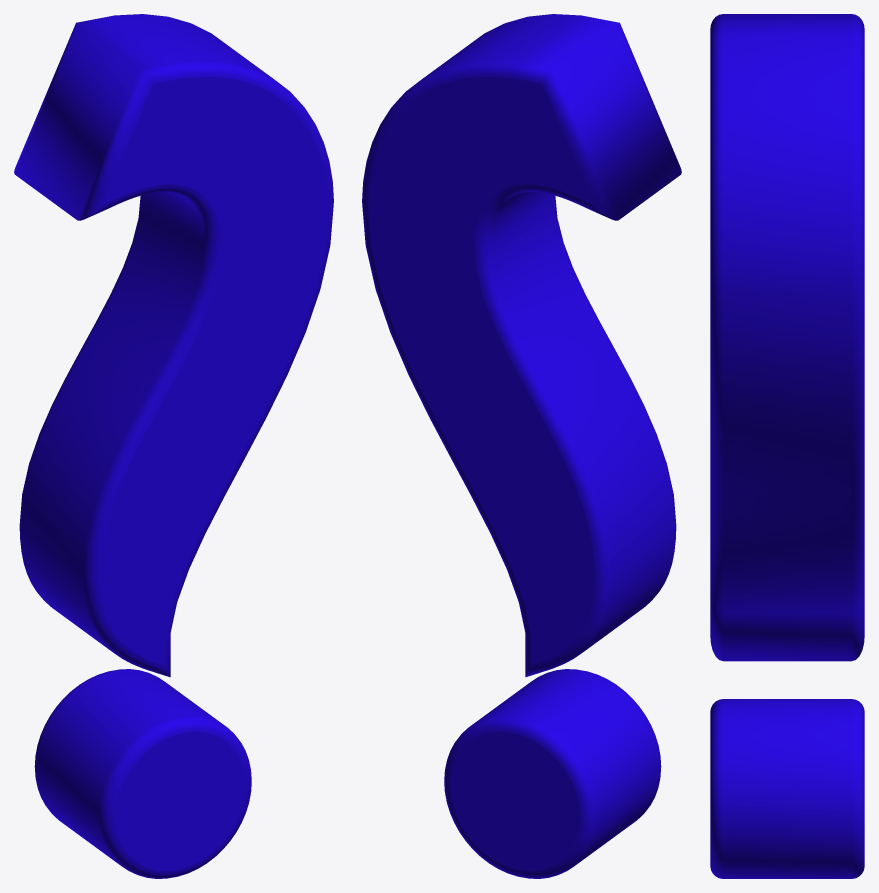
Rendered from Confused.gltf.
The picture shows the model from 3 angles, left to right: view 1: azimuth 30°, elevation 25°; view 2: azimuth 150°, elevation 25°; view 3: azimuth 270°, elevation 25°; orthographic projection. The views are drawn at different scales.
Visible parts, largest first — view 1: Text; view 2: Text; view 3: Text.
Part boxes in pixels (x1,y1,x2,y2): Text: (14, 14, 333, 878); Text: (362, 14, 681, 878); Text: (710, 14, 864, 878).
Size of the model in its own units: 0.2358 by 0.7203 by 0.12.
